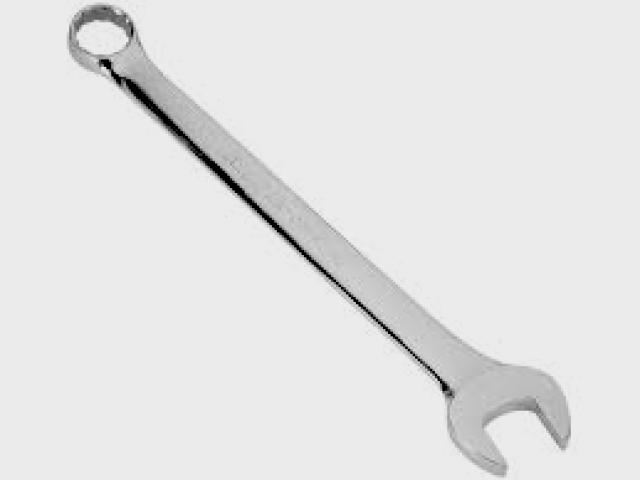Wrench: (68, 5, 570, 474)
